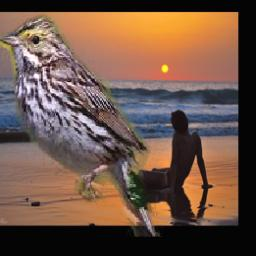Sparrow: (0, 12, 163, 237)
